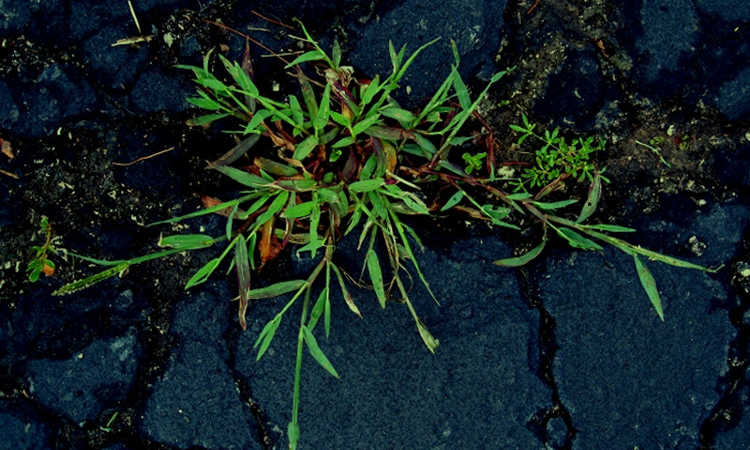crabgrass: (183, 61, 520, 310)
